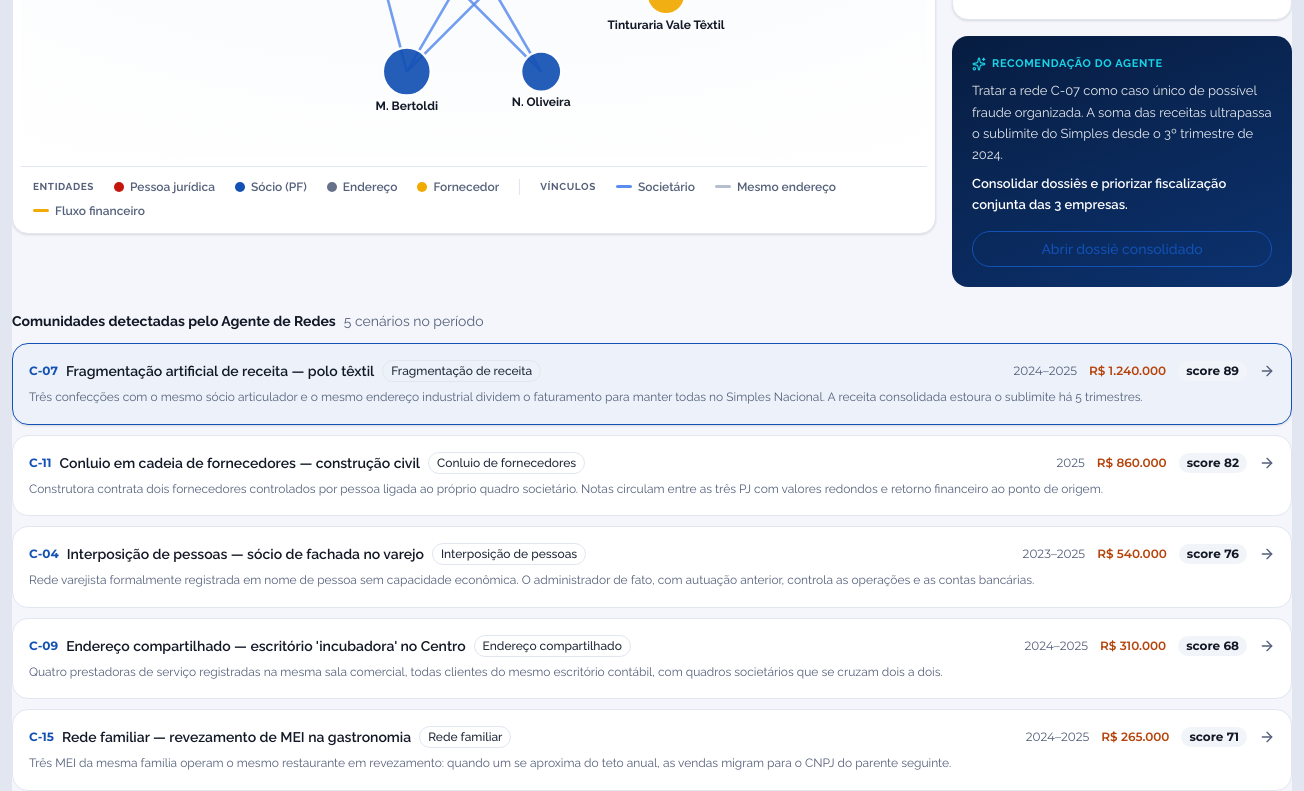
Scenario: Análise de Redes — página (T12) › clicar num cenário da lista troca o grafo exibido
The width and height of the screenshot is (1304, 791).
(page scrolled)
Expected: the text "Fragmentação artificial de receita — polo têxtil" is shown, [66, 361, 374, 381]
Click the button "Conluio em cadeia de fornecedores": point(240, 463) [12, 435, 1292, 516]
(page scrolled)
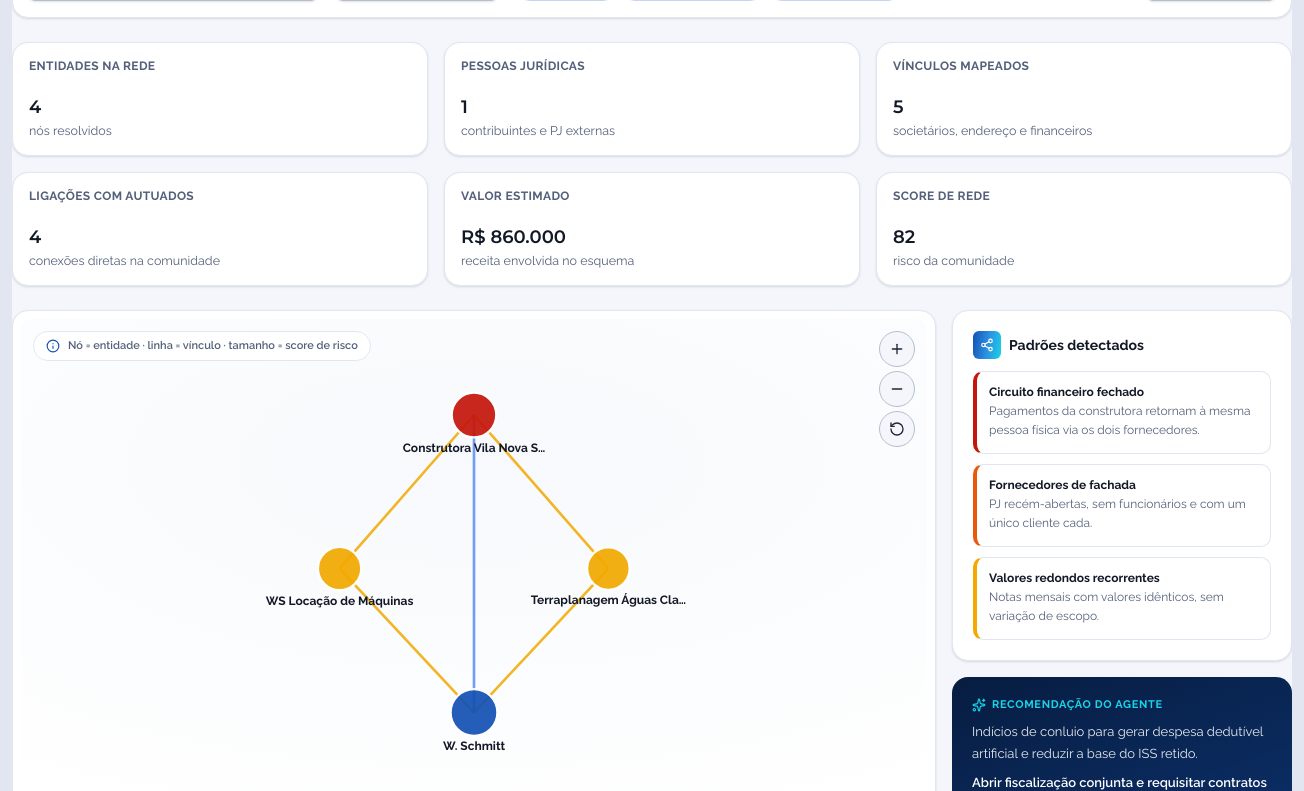
Expected: the button "Construtora Vila Nova S.A." is shown, [403, 441, 545, 455]
Now the text "Circuito financeiro fechado" is shown, box [989, 385, 1144, 399]
